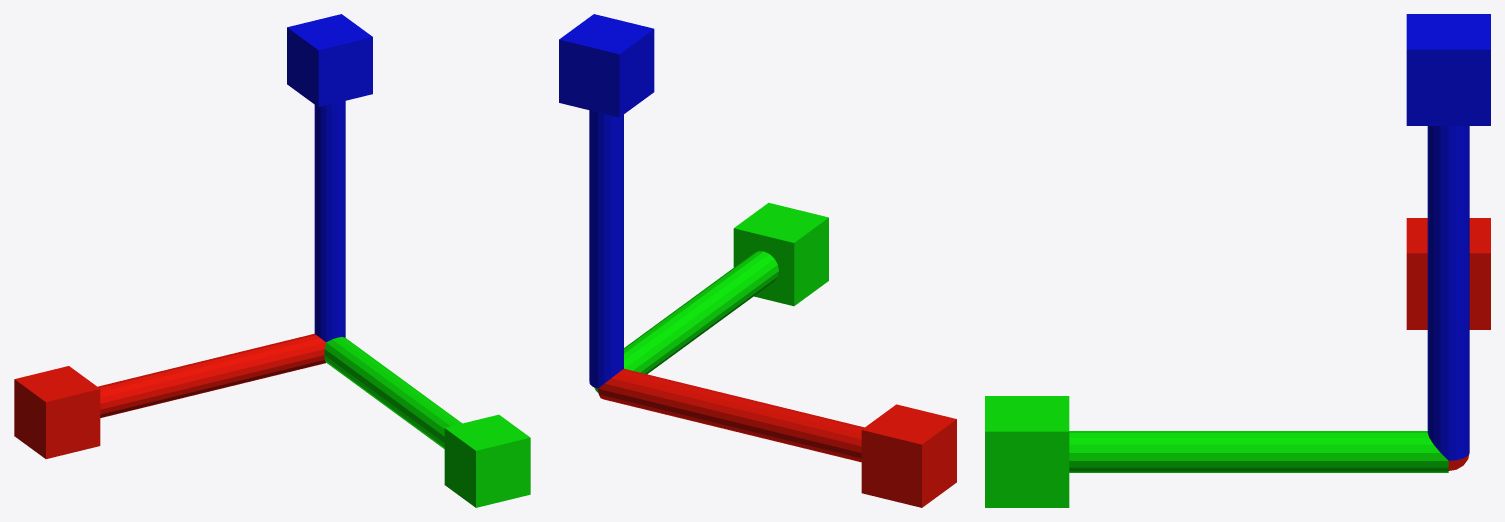
File: Gizmo_Cube.fbx
3 views of the same model, side by side, from view 1: azimuth 30°, elevation 25°; view 2: azimuth 150°, elevation 25°; view 3: azimuth 270°, elevation 25° (orthographic). The views are drawn at different scales.
Parts seen in each view (by area): view 1: Cylinder, Cylinder.002, Cube.001, Cube.002, Cube, Cylinder.001; view 2: Cylinder, Cylinder.002, Cube, Cube.002, Cube.001, Cylinder.001; view 3: Cylinder.001, Cylinder, Cube, Cube.001, Cube.002.
Part boxes in pixels (left/top/right/bottom): Cylinder: left=314, top=101, right=345, bottom=342; Cylinder.002: left=98, top=333, right=325, bottom=417; Cube.001: left=444, top=414, right=530, bottom=507; Cube.002: left=14, top=366, right=100, bottom=458; Cube: left=287, top=14, right=372, bottom=107; Cylinder.001: left=324, top=337, right=462, bottom=448; Cylinder: left=589, top=110, right=623, bottom=388; Cylinder.002: left=598, top=368, right=864, bottom=462; Cube: left=559, top=14, right=654, bottom=117; Cube.002: left=861, top=404, right=956, bottom=507; Cube.001: left=733, top=202, right=828, bottom=306; Cylinder.001: left=594, top=251, right=778, bottom=392; Cylinder.001: left=1069, top=431, right=1448, bottom=472; Cylinder: left=1427, top=126, right=1469, bottom=460; Cube: left=1406, top=14, right=1490, bottom=125; Cube.001: left=985, top=396, right=1069, bottom=507; Cube.002: left=1406, top=218, right=1490, bottom=329.
Size of the model in its own units: 240 by 240 by 240.
